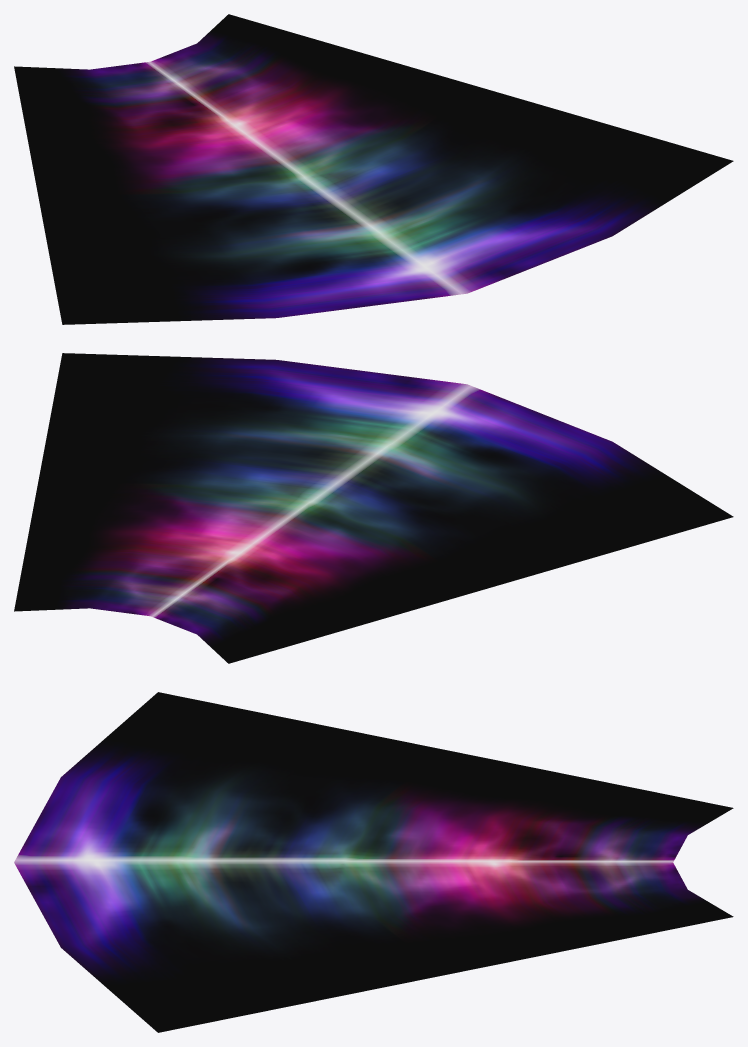
The model's file is SheXia.FBX.
3 views of the same model, one above another, from view 1: azimuth 30°, elevation 25°; view 2: azimuth 150°, elevation 25°; view 3: azimuth 270°, elevation 25° (orthographic). The views are drawn at different scales.
Visible parts, largest first — view 1: MeiDuSha_SheXian; view 2: MeiDuSha_SheXian; view 3: MeiDuSha_SheXian.
Boxes of the visible parts, x1,y1,x2,y2 form: MeiDuSha_SheXian: (14,14,733,324); MeiDuSha_SheXian: (14,353,733,663); MeiDuSha_SheXian: (14,692,733,1032).
Bounding box in the file's own units: 791 × 1.99e-13 × 706.
